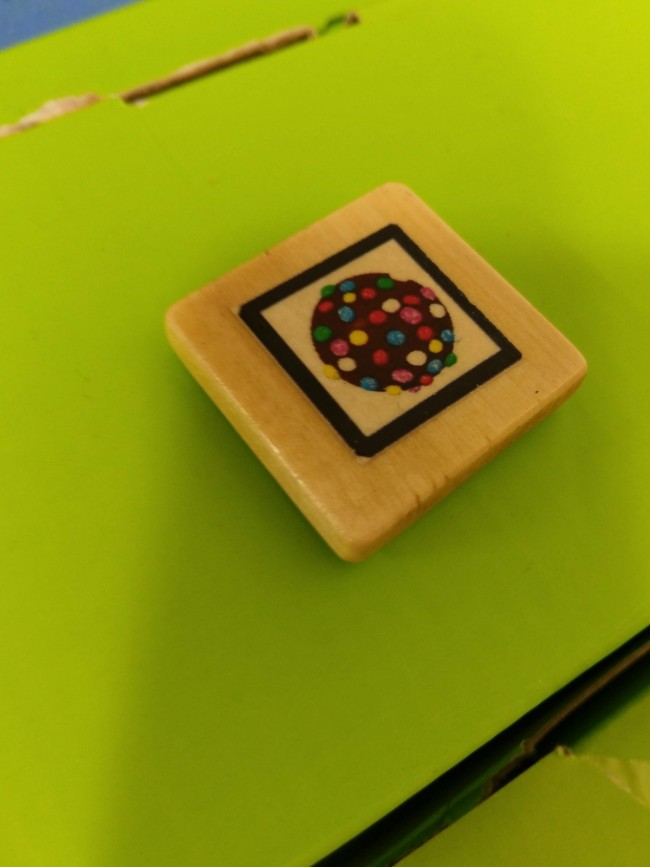cookie: (233, 218, 533, 463)
